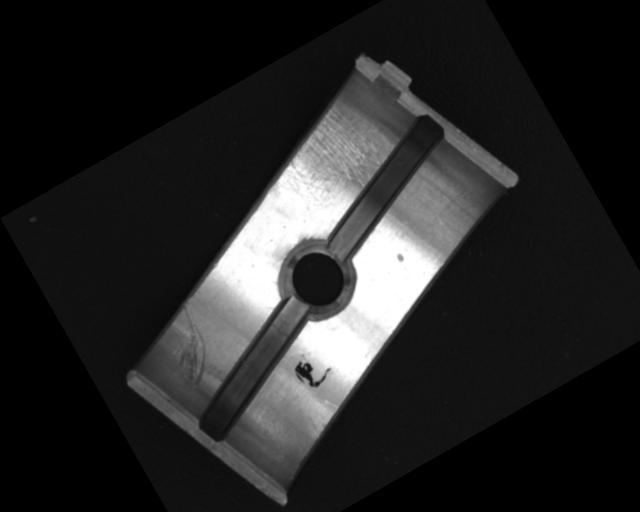blot: (290, 347, 338, 394)
bruise: (394, 251, 406, 264)
gap: (164, 293, 343, 448), (296, 109, 475, 264)
hole: (272, 234, 365, 327)
nick: (150, 302, 226, 392)
scratch: (252, 87, 406, 226)
